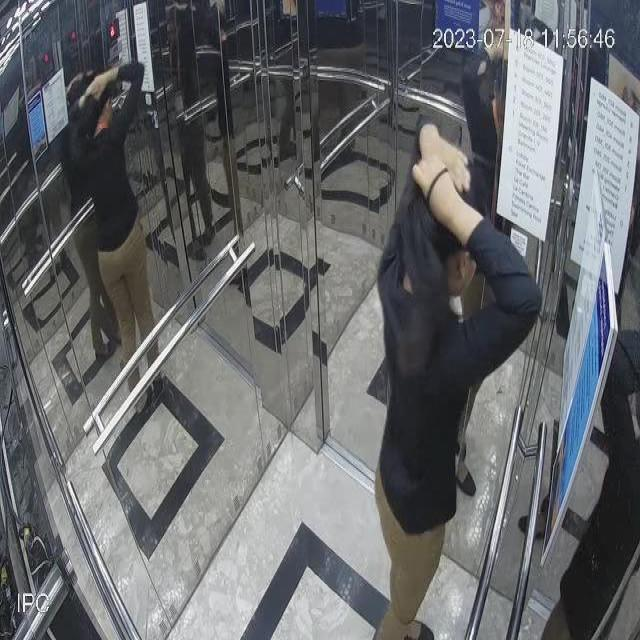person: (367, 140, 543, 640), (65, 60, 148, 413)
